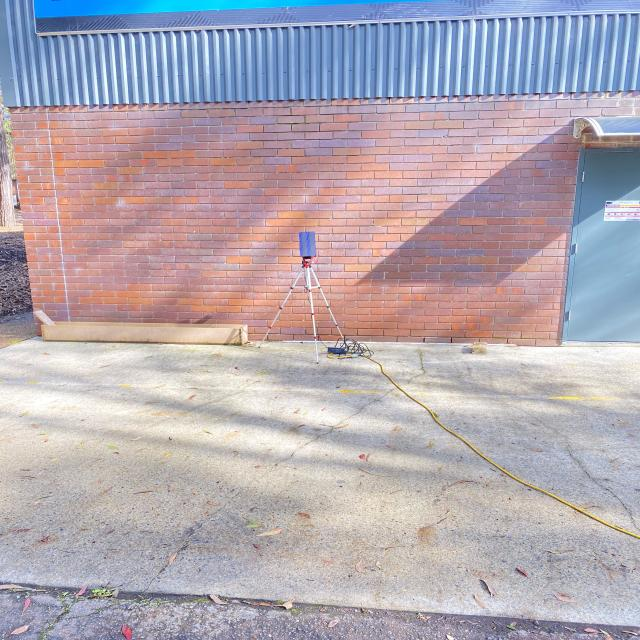matrix: (296, 225, 318, 262)
